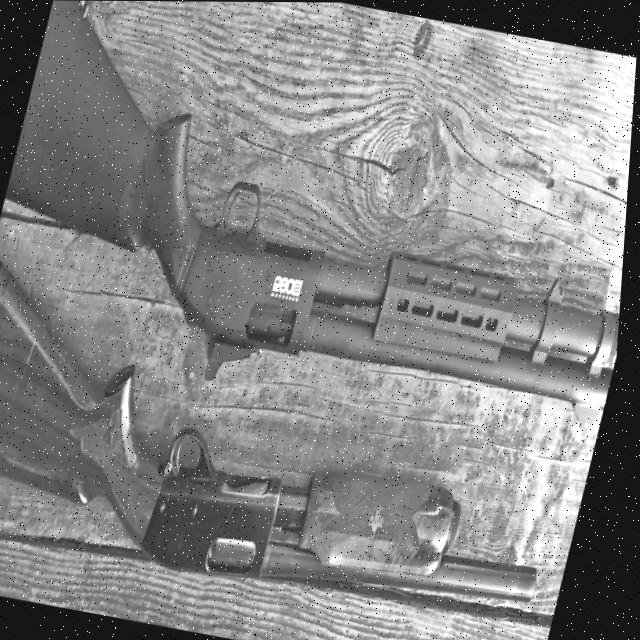firearm: (0, 0, 640, 419), (0, 241, 603, 632)
